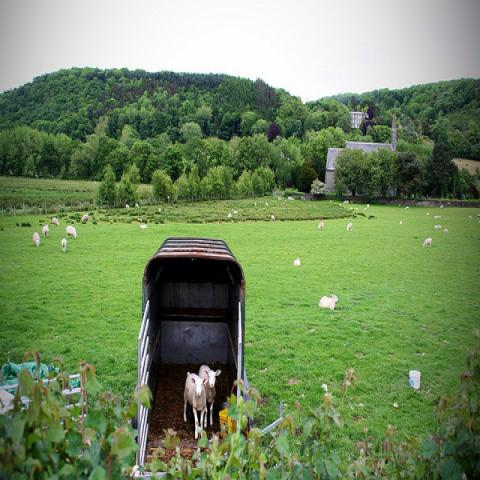truck: (137, 235, 245, 473)
